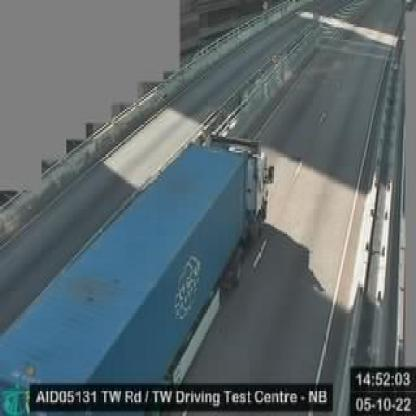Truck: (1, 134, 272, 412)
